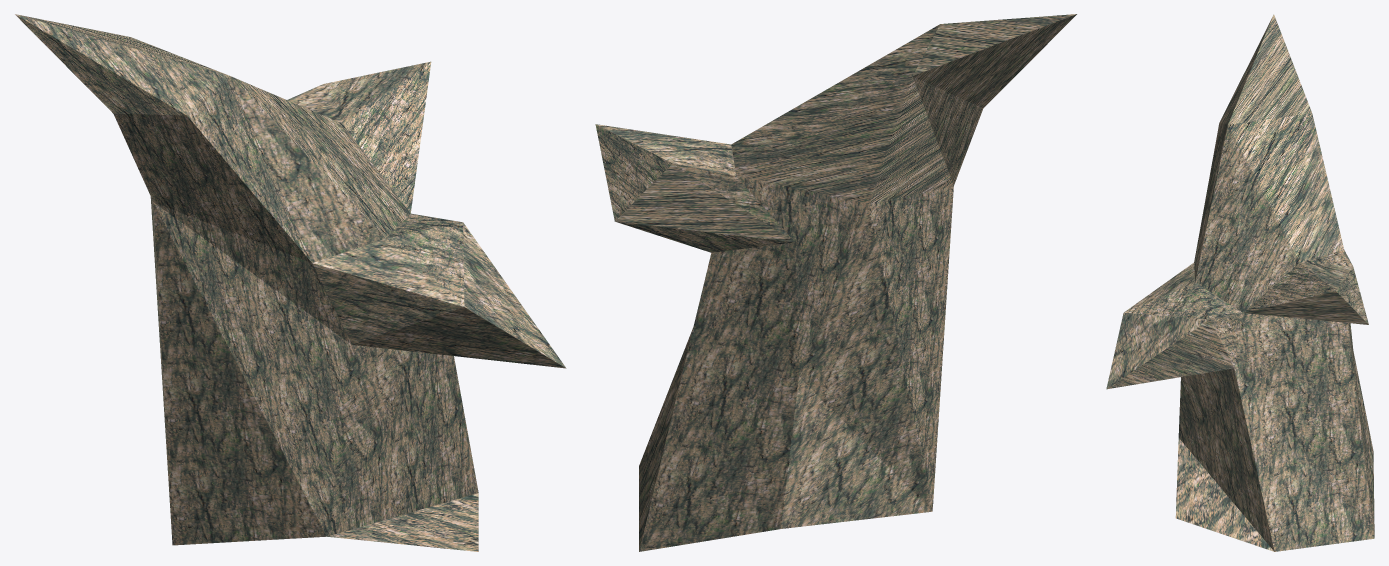
The model's file is poi_all_lair_dead_log_large_l3.fbx.
3 renders of one model, left to right at view 1: azimuth 30°, elevation 25°; view 2: azimuth 150°, elevation 25°; view 3: azimuth 270°, elevation 25°, orthographic. The views are drawn at different scales.
Visible parts, largest first — view 1: mesh_node; view 2: mesh_node; view 3: mesh_node.
Boxes of the visible parts, x1,y1,x2,y2 form: mesh_node: [15, 14, 566, 551]; mesh_node: [595, 14, 1076, 551]; mesh_node: [1106, 14, 1374, 551].
Size of the model in its own units: 6.8 by 8.52 by 5.18.
